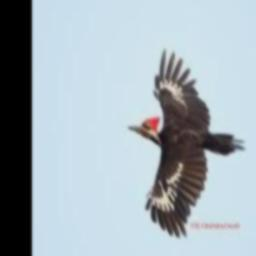Woodpecker: (129, 47, 246, 236)
